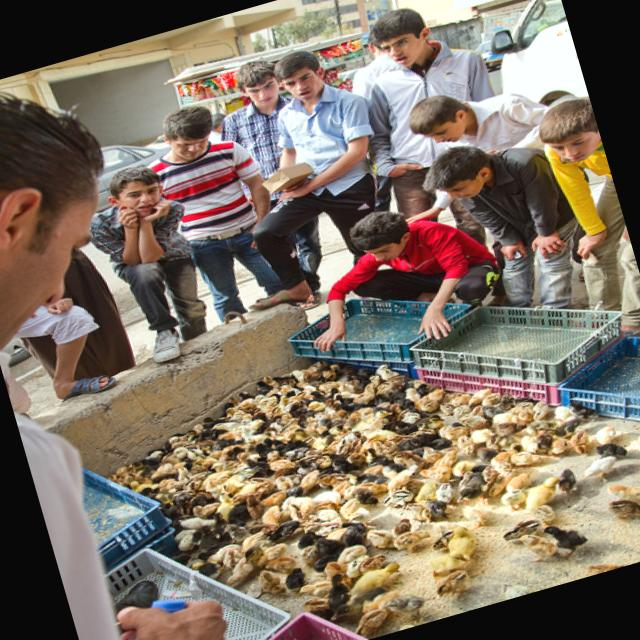Vehicle: (473, 0, 589, 122), (80, 129, 176, 211), (472, 38, 500, 74)
